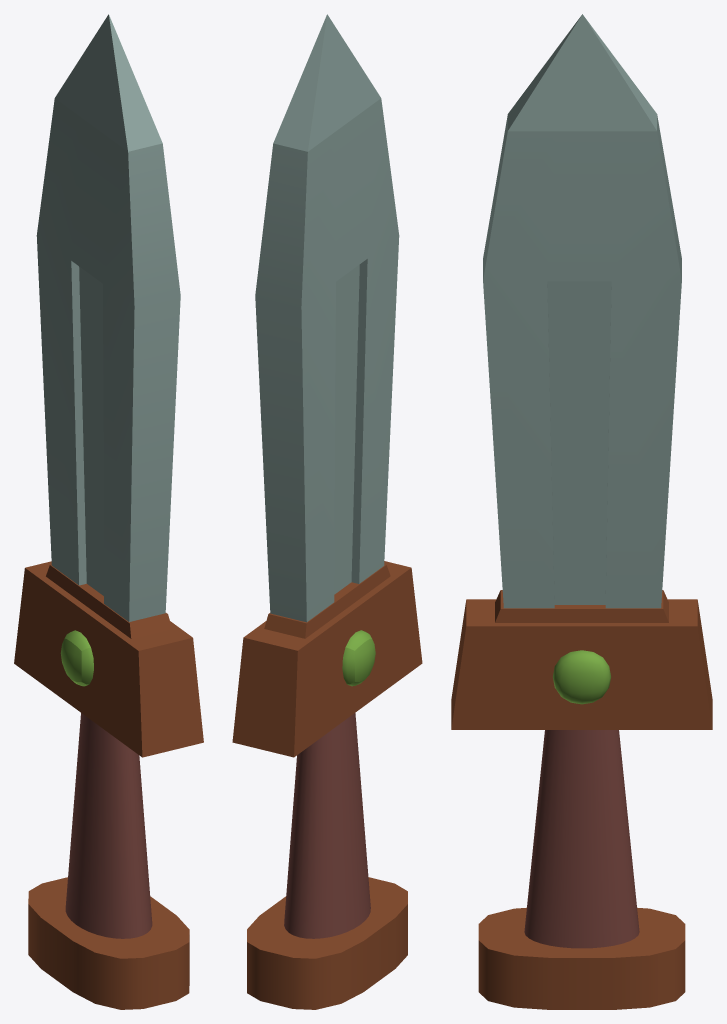
Rendered from Sword.fbx.
3 views of the same model, side by side, from view 1: azimuth 30°, elevation 25°; view 2: azimuth 150°, elevation 25°; view 3: azimuth 270°, elevation 25° (orthographic).
Parts seen in each view (by area): view 1: Cube.001; view 2: Cube.001; view 3: Cube.001.
Boxes of the visible parts, left/top/right/bottom form: Cube.001: left=14, top=14, right=203, bottom=1009; Cube.001: left=232, top=14, right=422, bottom=1009; Cube.001: left=451, top=14, right=712, bottom=1009.
Bounding box in the file's own units: 94.44 × 827 × 202.
